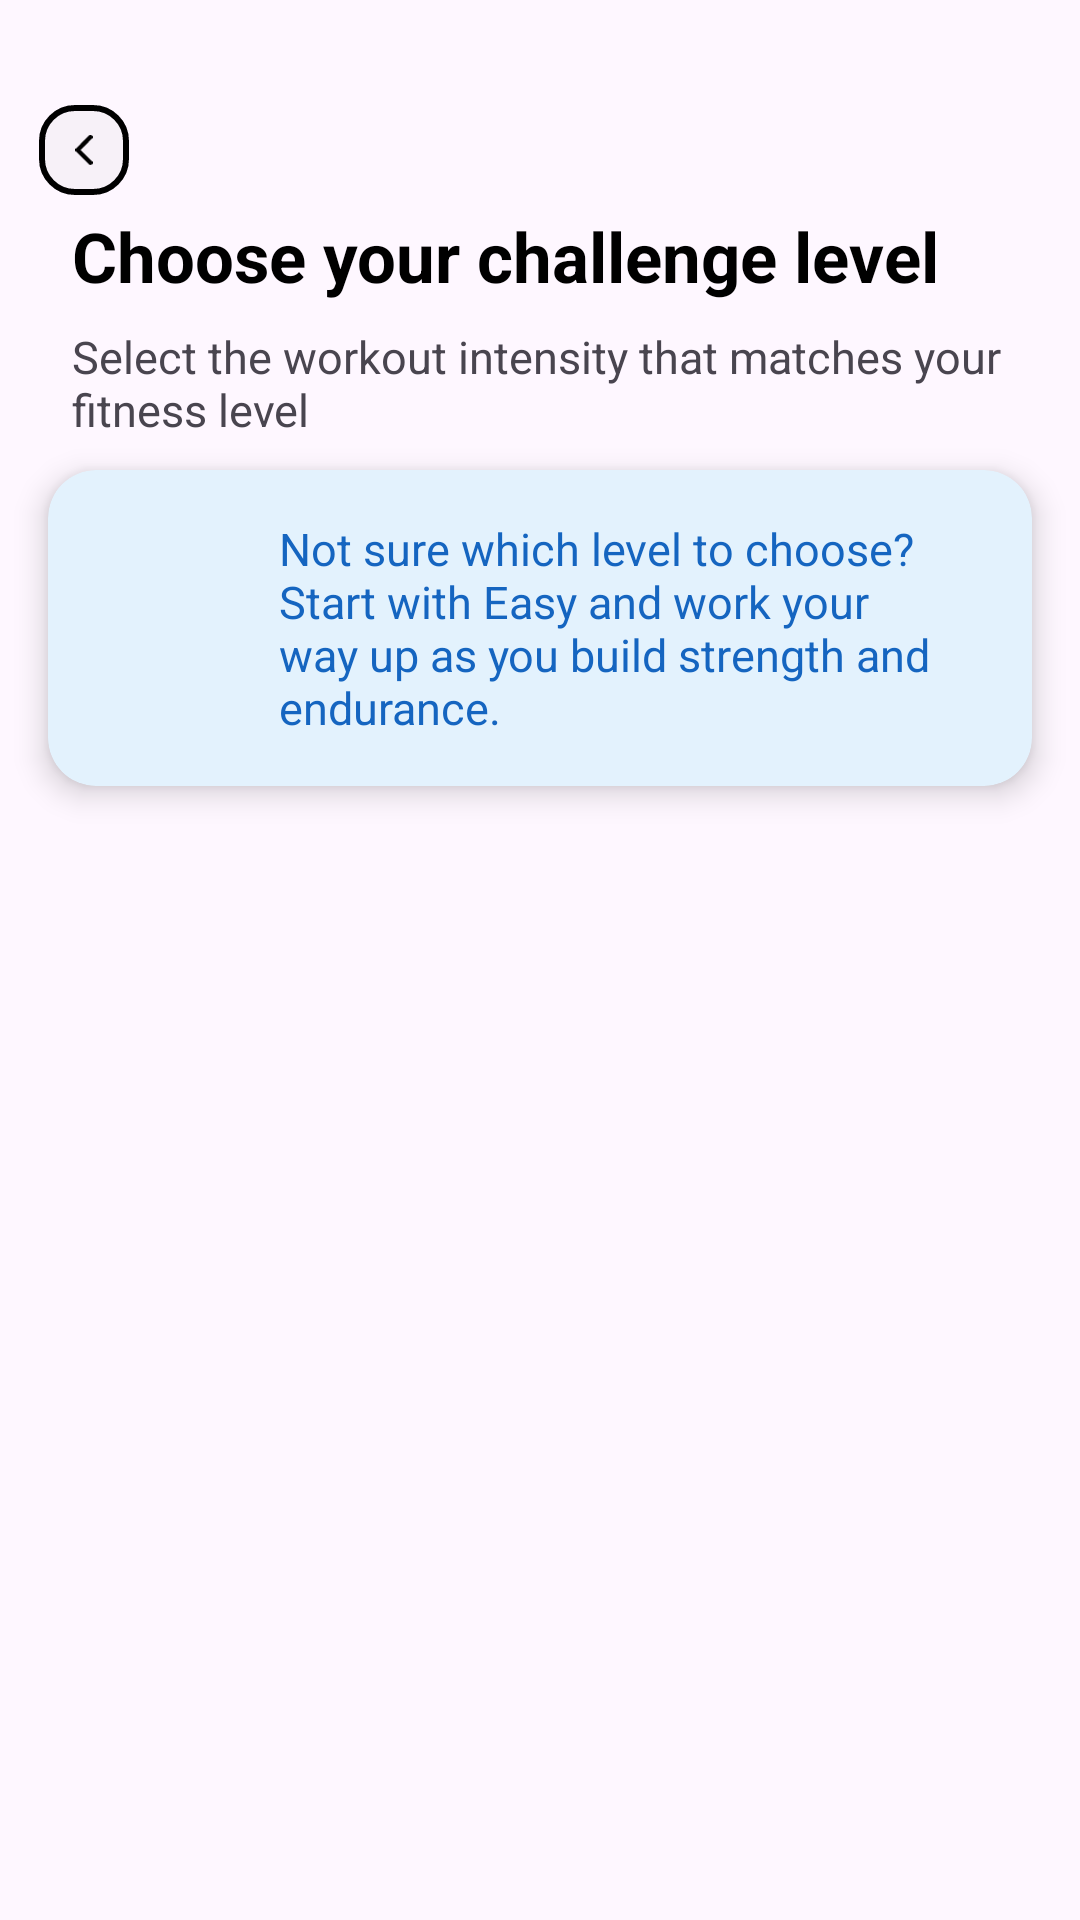

Named icons in this screenshot (1080 x 1920) and their centers, [x,y]:
arrow back: [84,150]
